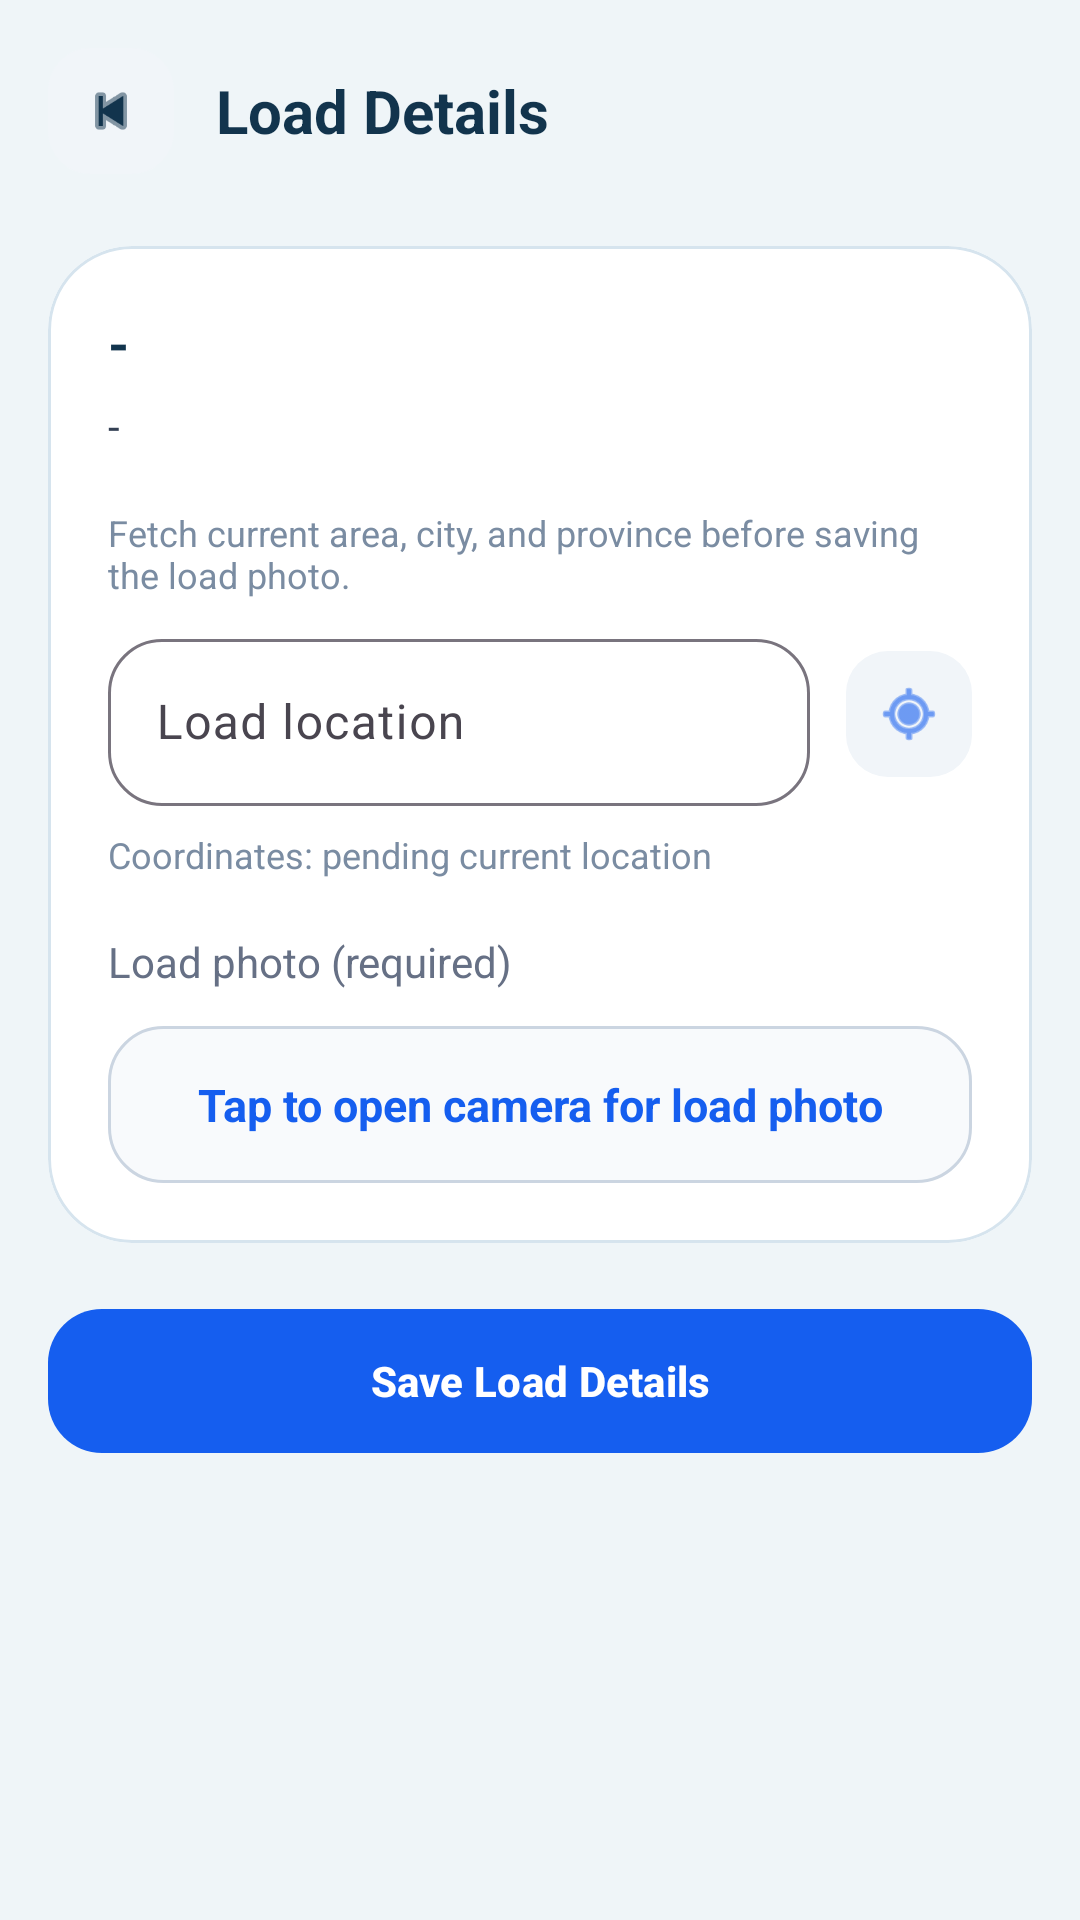

Point at icon controls on the screen. Image size 1080×1920, points as point (x, y).
Back: point (111, 111)
Fetch current location: point (909, 714)
